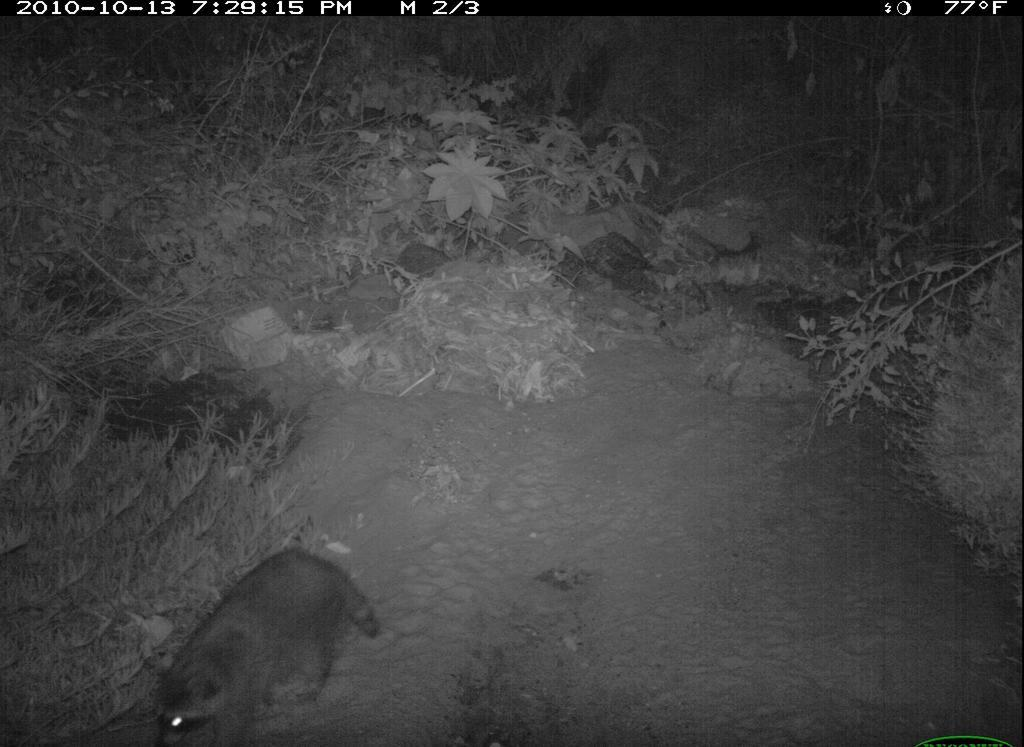raccoon: (144, 541, 388, 747)
